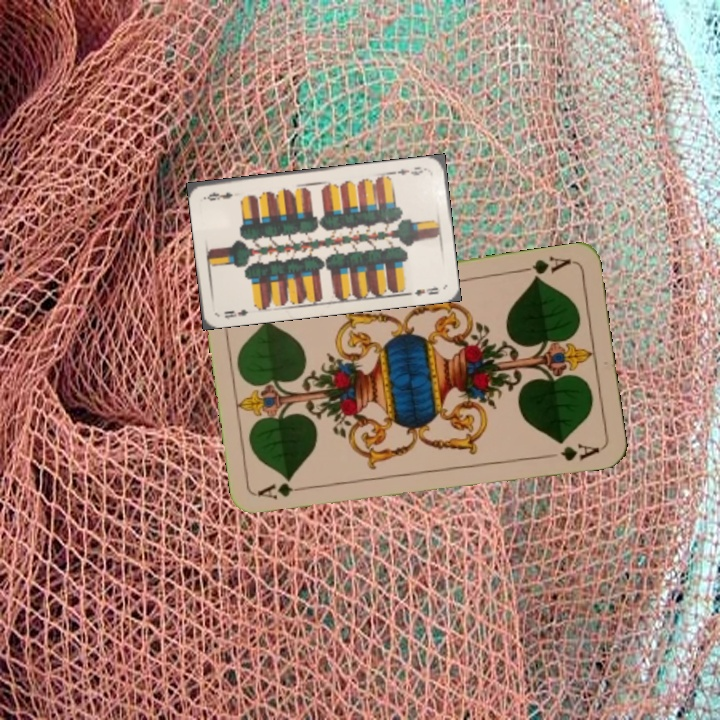E9: (390, 163, 429, 178), (220, 305, 251, 322)
GA: (516, 253, 574, 283), (254, 479, 314, 503)
